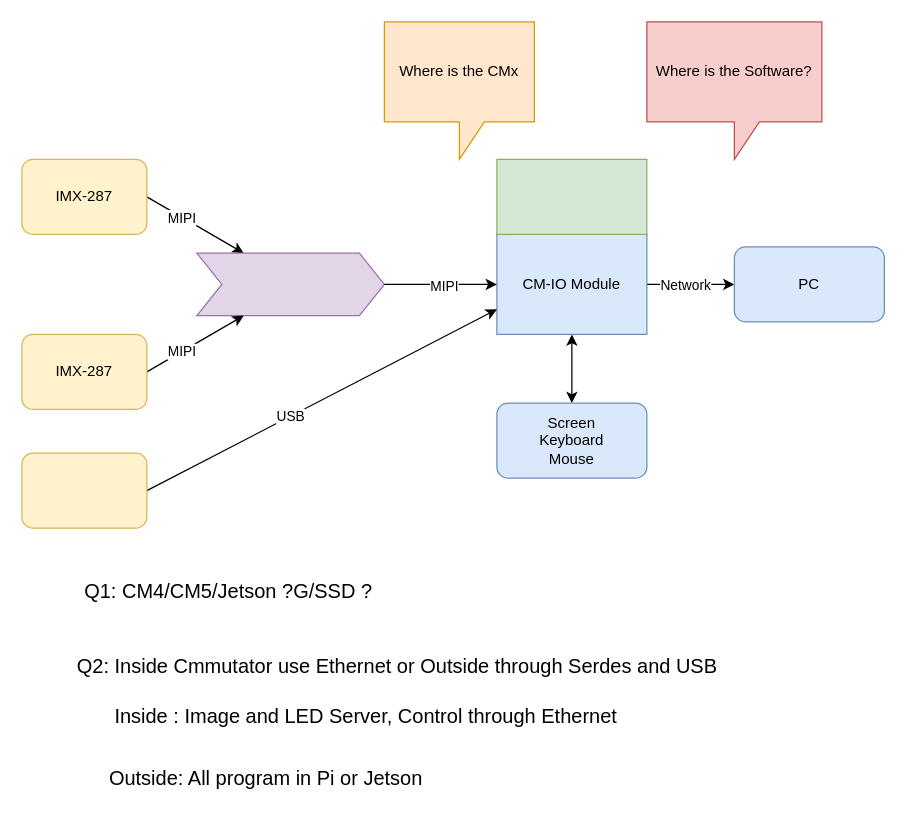
Image size: 906x819. Some labels were removed from this diagram. Here are the shapes that lost their labels. From the top down, the centre of each, then its label:
At (571,196): "CM5/CM4-xG or Jetson".
At (290,284): "MIPI or MIPI orver Serdes".
At (84,490): "LEDs".
